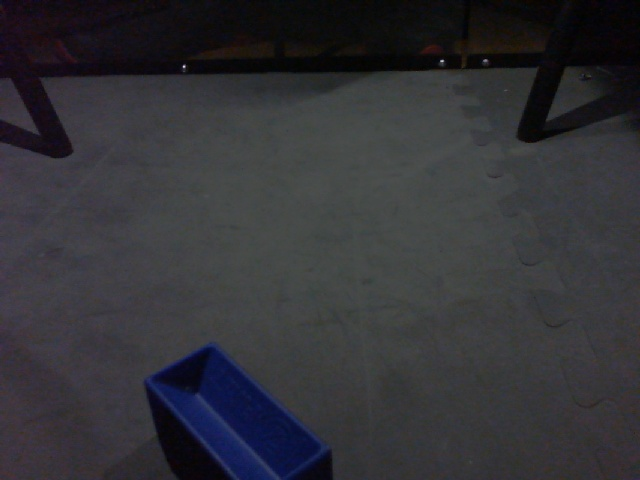BlueSample: (141, 335, 339, 480)
